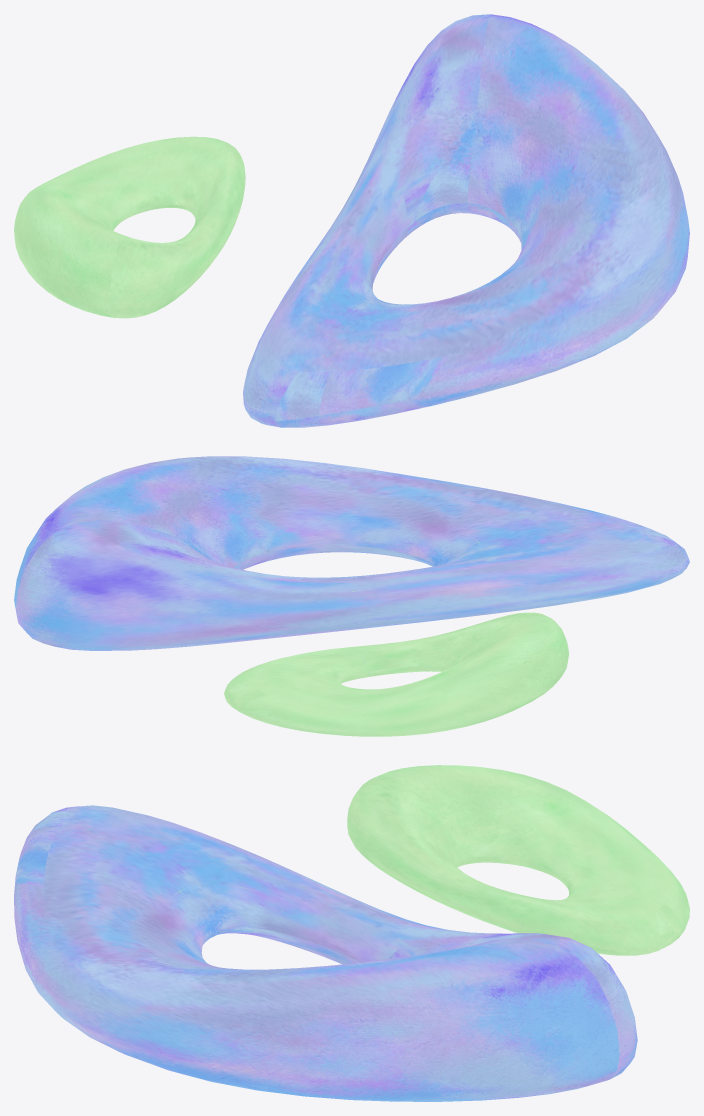
Rendered from Archi1.fbx.
3 renders of one model, top to bottom at view 1: azimuth 30°, elevation 25°; view 2: azimuth 150°, elevation 25°; view 3: azimuth 270°, elevation 25°, orthographic. The views are drawn at different scales.
Visible parts, largest first — view 1: Organic_torus1.002; view 2: Organic_torus1.002; view 3: Organic_torus1.002.
Boxes of the visible parts, x1,y1,x2,y2 form: Organic_torus1.002: (14,14,689,427); Organic_torus1.002: (14,456,689,736); Organic_torus1.002: (14,765,689,1101).
Size of the model in its own units: 24.23 by 24.01 by 5.33.
